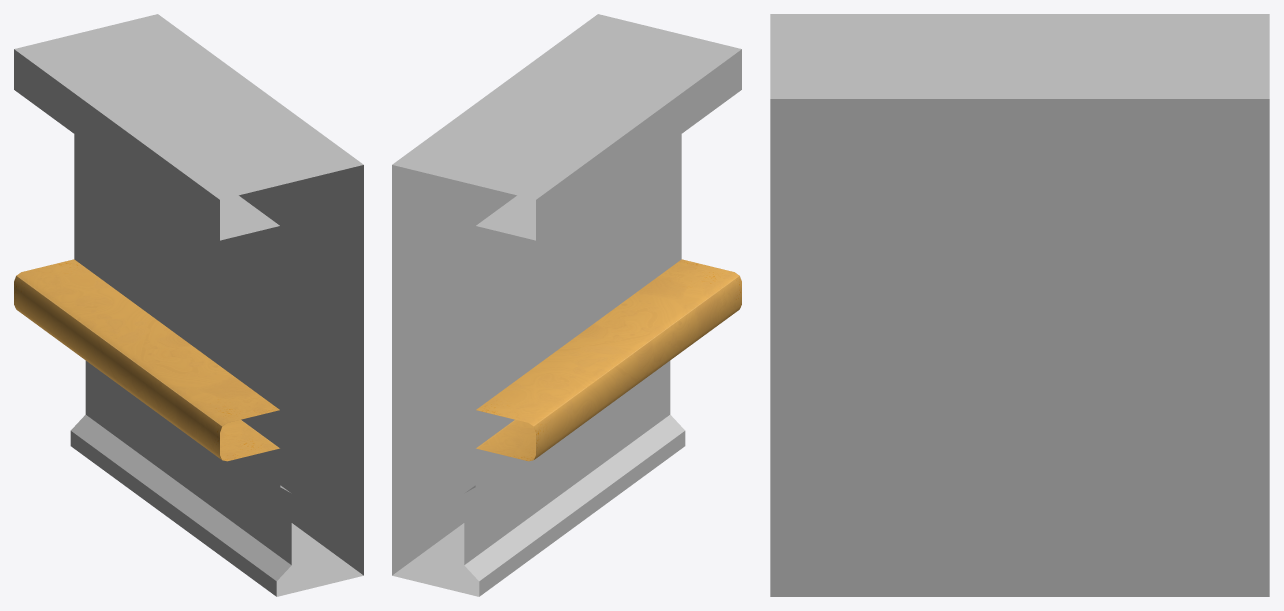
File: SM_Beam_03_Middle.fbx
3 views of the same model, side by side, from view 1: azimuth 30°, elevation 25°; view 2: azimuth 150°, elevation 25°; view 3: azimuth 270°, elevation 25° (orthographic). The views are drawn at different scales.
Visible parts, largest first — view 1: SM_Beam_03_Middle_LOD0; view 2: SM_Beam_03_Middle_LOD0; view 3: SM_Beam_03_Middle_LOD0.
Boxes of the visible parts, x1,y1,x2,y2 form: SM_Beam_03_Middle_LOD0: (14,14,363,596); SM_Beam_03_Middle_LOD0: (392,14,741,596); SM_Beam_03_Middle_LOD0: (770,14,1269,596).
Size of the model in its own units: 121 by 300 by 330.
